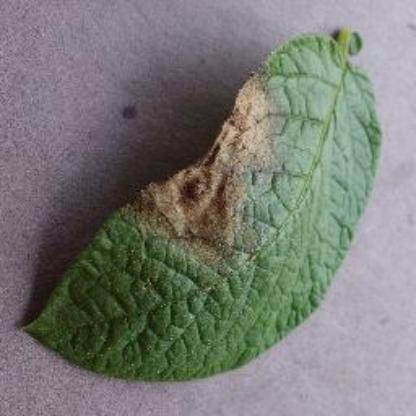Late-Blight: (26, 24, 392, 384)
